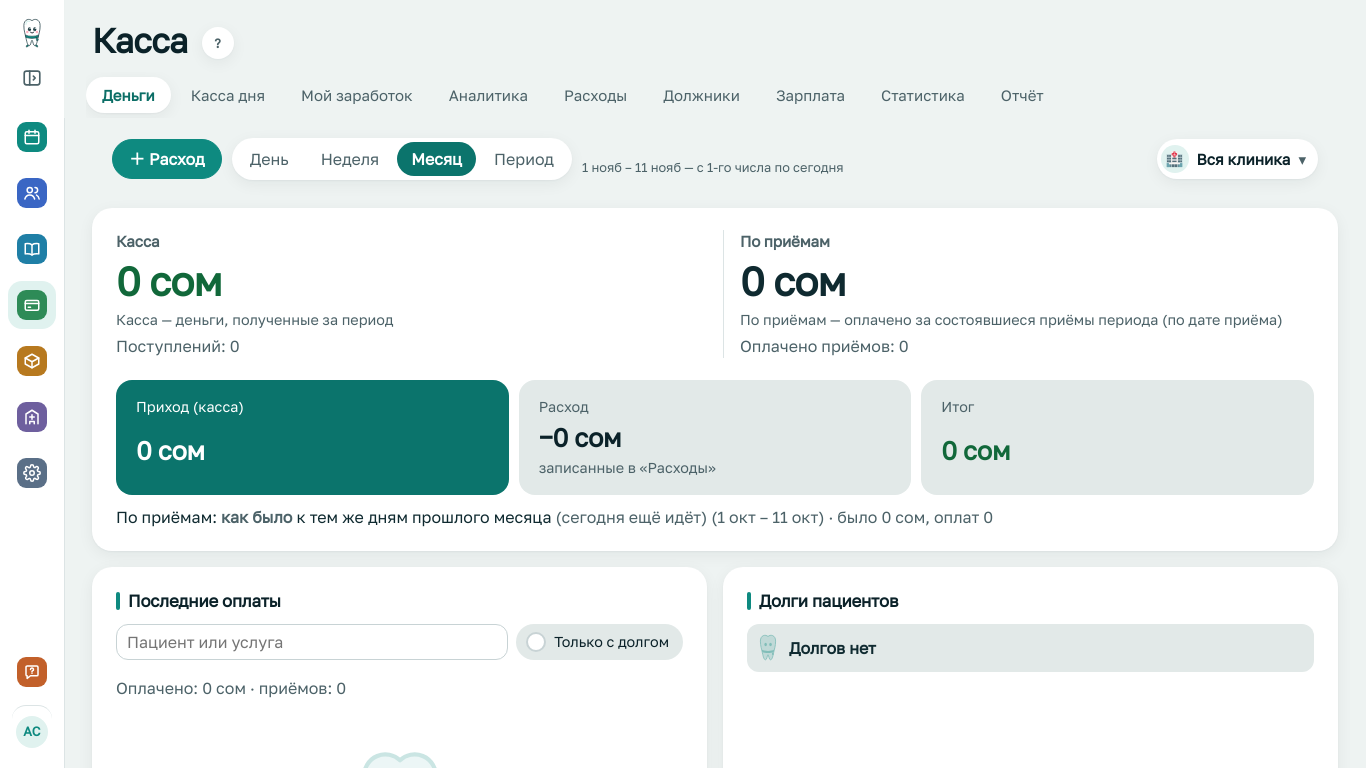
Test: оклад по табелю: расшифровка в карточке, табель, больничный кистью, норма вручную
Later steps or results of the test are not shown.
Expected: the navigation bar named "Разделы" is shown, [8, 113, 56, 497]
Click the link "Зарплата".
click(810, 95)  # box [776, 86, 845, 104]
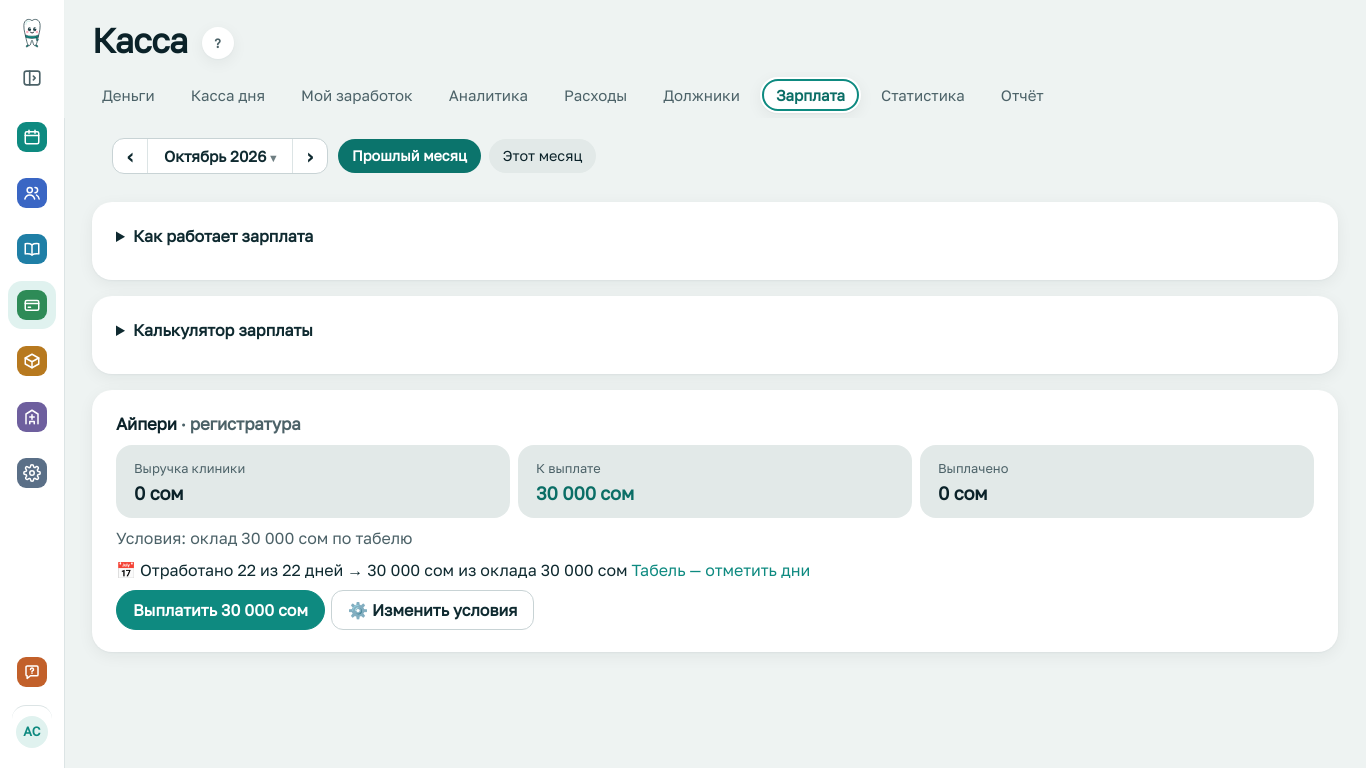
Now the element named "Зарплата: Айпери" shows "Условия: оклад 30 000 сом по табелю", box [92, 390, 1338, 652]
Now the element named "Оклад по табелю" shows "📅 Отработано 22 из 22 дней → 30 000 сом из оклада 30 000 сом Табель — отметить", box [116, 558, 810, 582]
Click the button "Табель — отметить дни".
click(721, 570)  # box [632, 558, 810, 582]
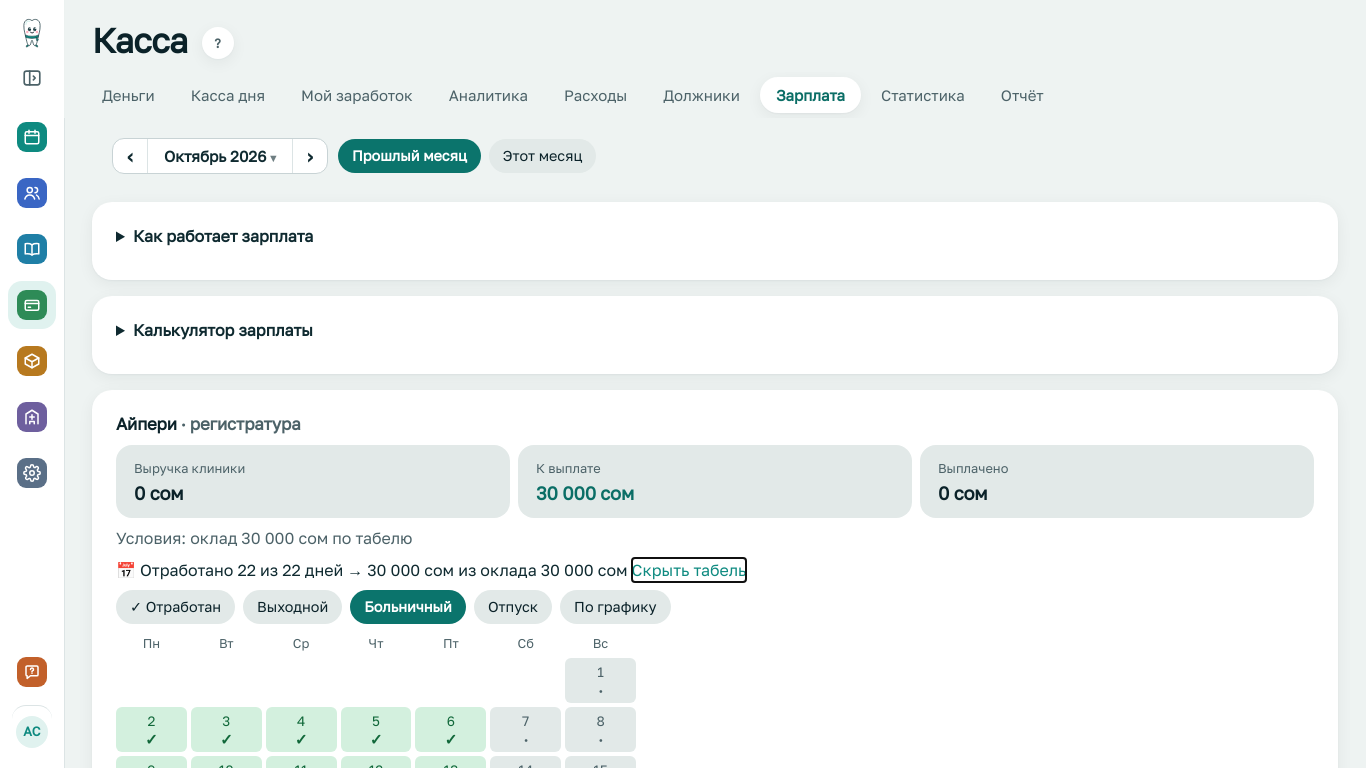
Now the cell named "1: нерабочий" is shown, box [565, 658, 636, 703]
Click the button "Больничный".
click(408, 607)  # box [350, 590, 466, 624]
(page scrolled)
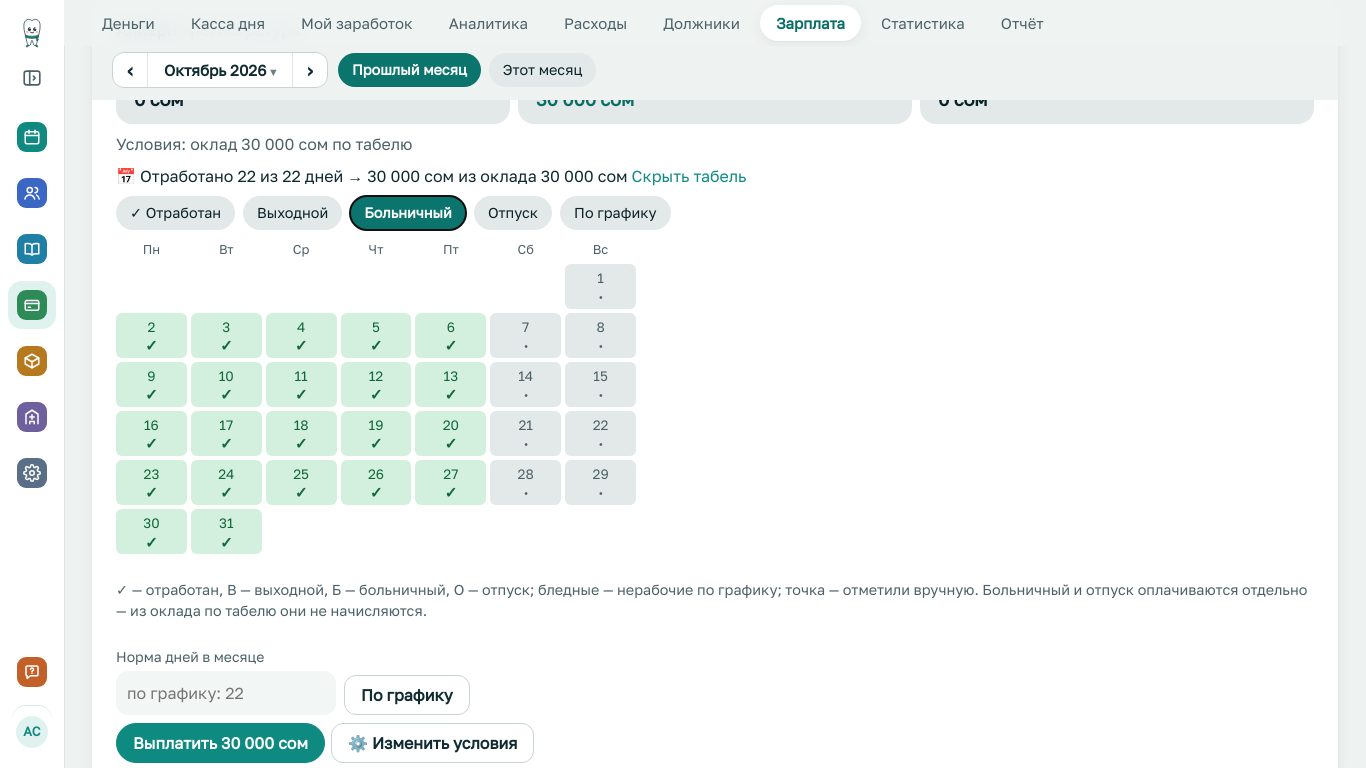
Click the cell named "10: Отработан".
click(226, 384)  # box [191, 362, 262, 407]
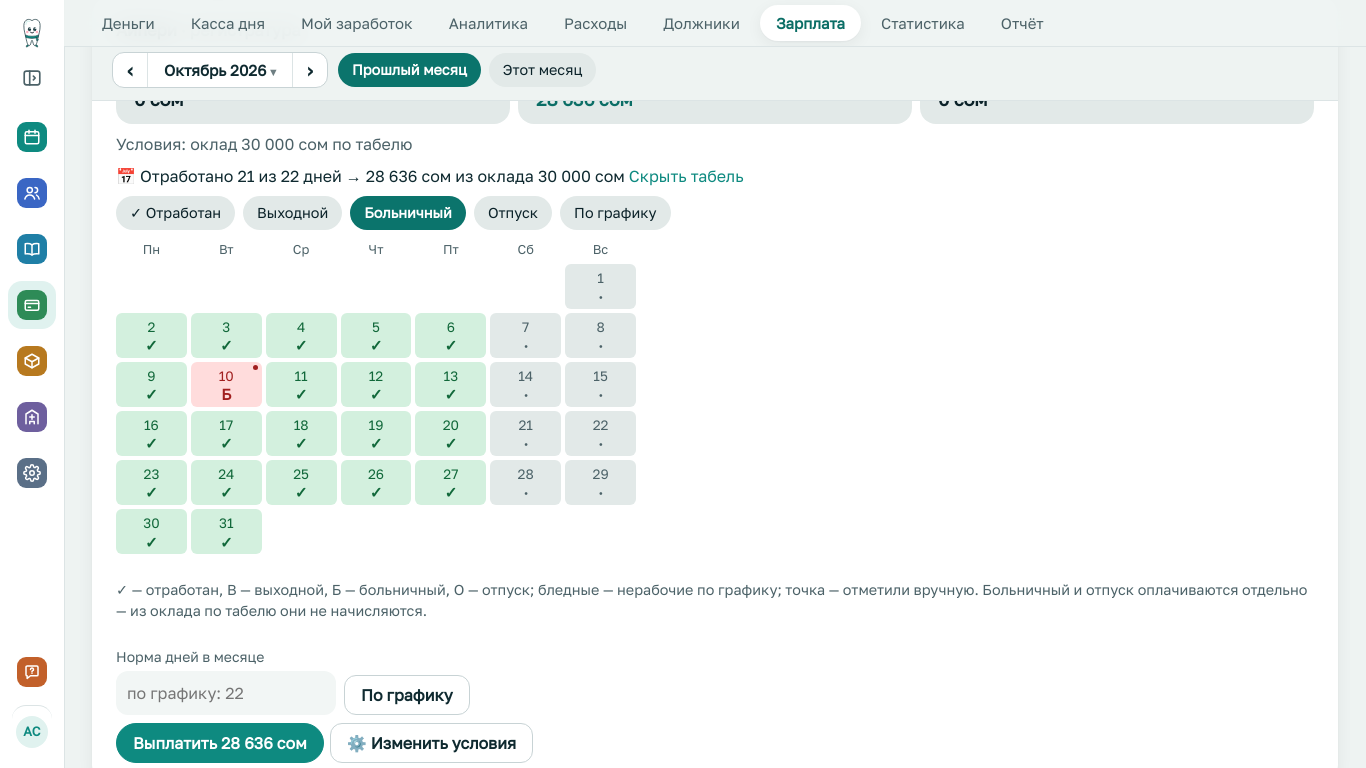
Now the cell named "10: Больничный (вручную)" is shown, box [191, 362, 262, 407]
Now the element named "Оклад по табелю" reads "📅 Отработано 21 из 22 дней → 28 636 сом из оклада 30 000 сом Скрыть табель", box [116, 164, 744, 188]
